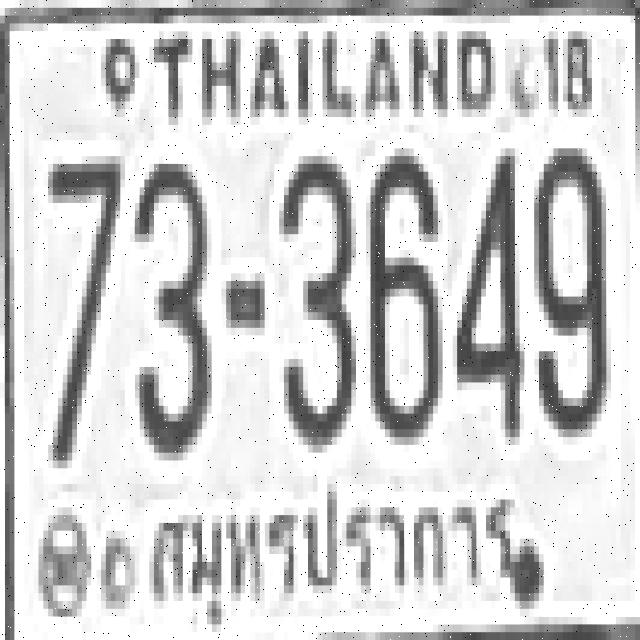3: (130, 156, 207, 452), (279, 148, 351, 437)
4: (452, 144, 520, 433)
6: (366, 148, 438, 437)
7: (46, 148, 118, 460), (46, 152, 118, 426), (46, 152, 118, 355)
9: (530, 140, 602, 430)
SamutPrakan: (142, 475, 525, 620)
